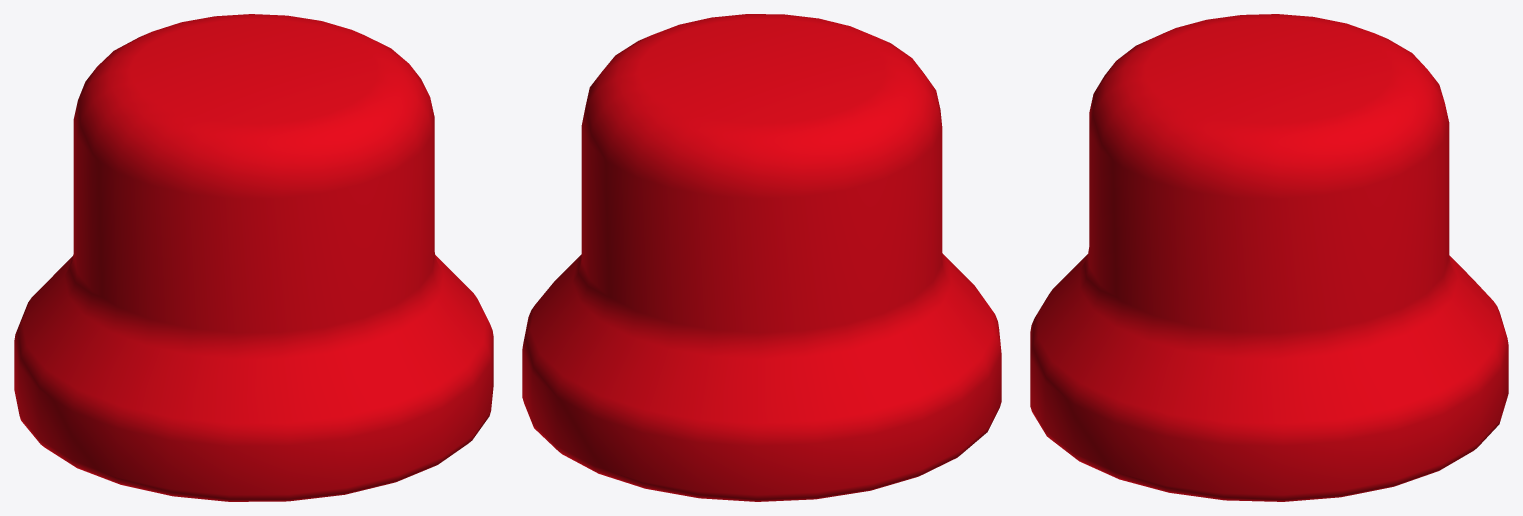
File: rubber 1.fbx
3 views of the same model, side by side, from view 1: azimuth 30°, elevation 25°; view 2: azimuth 150°, elevation 25°; view 3: azimuth 270°, elevation 25° (orthographic).
Parts seen in each view (by area): view 1: Cylinder; view 2: Cylinder; view 3: Cylinder.
Part boxes in pixels (box(x1,y1,x2,y2)): Cylinder: box(14, 14, 493, 501); Cylinder: box(522, 14, 1001, 501); Cylinder: box(1030, 14, 1508, 501).
Size of the model in its own units: 161 by 124 by 161.
1 material, 1 textured.
